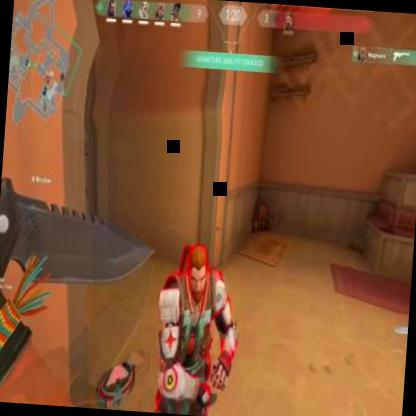enemy: (145, 240, 246, 416)
enemy_head: (181, 240, 212, 304)
